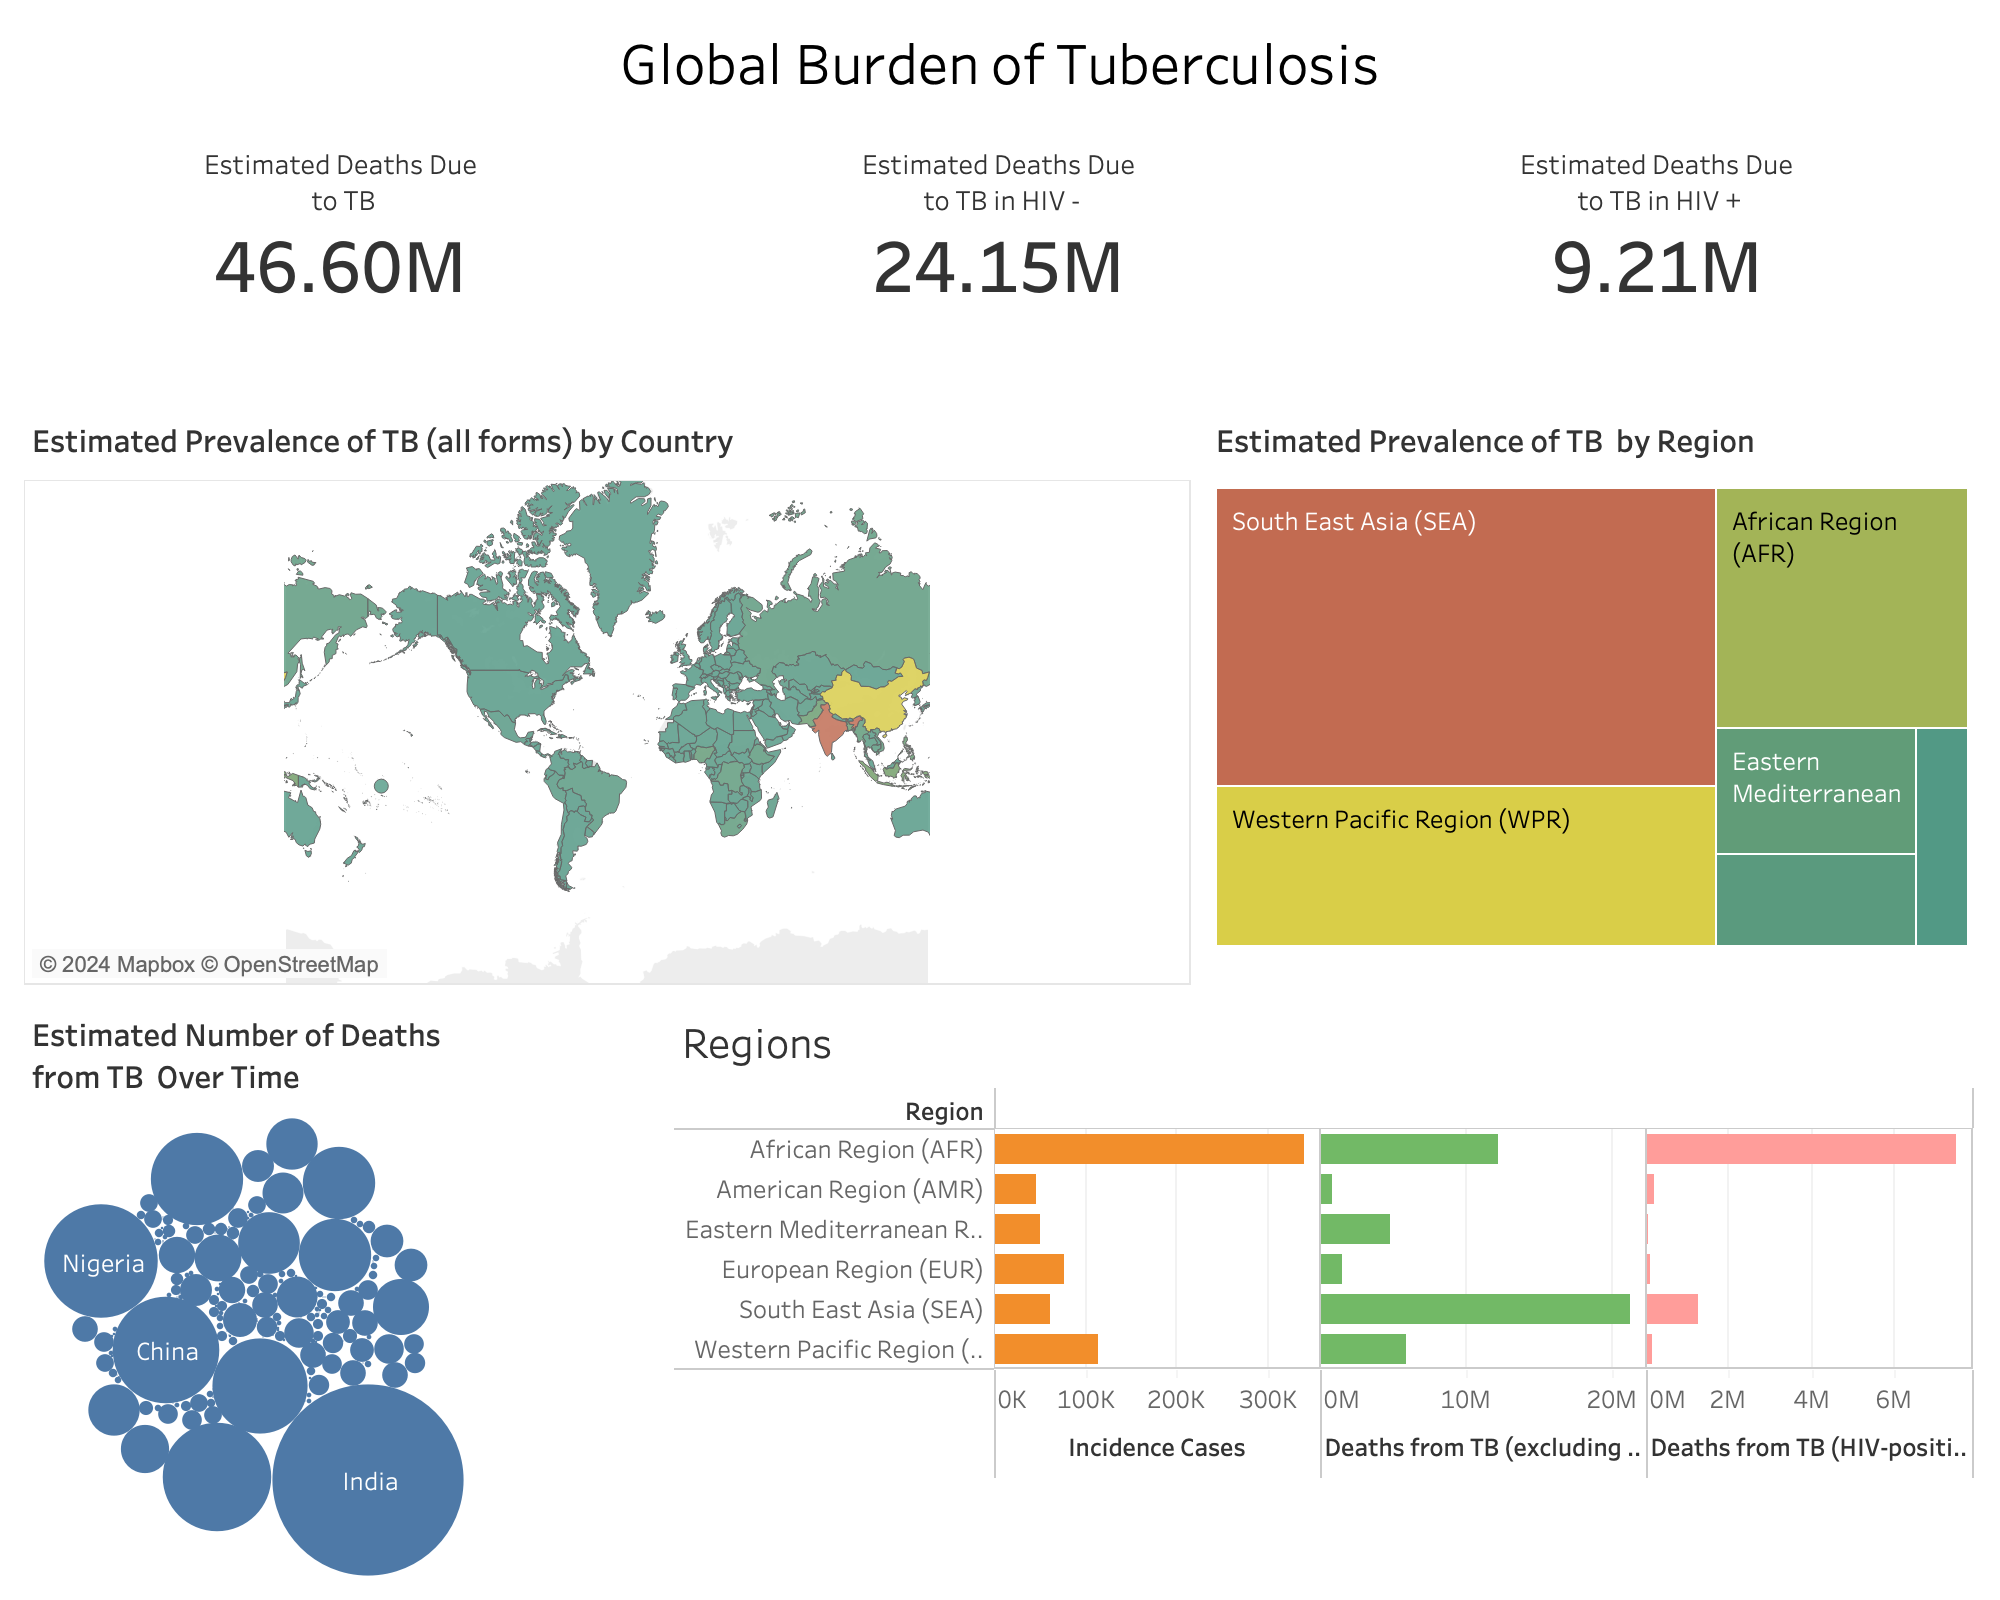

Layout of this report page (visuals, bound fields, positions):
{"tool":"tableau","page":{"name":"Dashboard 1","canvas":[1000,800],"ordinal":0},"visuals":[{"type":"title","box":[8,8,984,46]},{"type":"worksheet","title":"Sheet 7","mark":"Automatic","box":[8,54,325,146]},{"type":"worksheet","title":"T","mark":"Automatic","box":[333,54,333,146]},{"type":"worksheet","title":"HIv+","mark":"Automatic","box":[666,54,326,146]},{"type":"worksheet","title":"Sheet 1","mark":"Multipolygon","box":[8,200,984,297]},{"type":"worksheet","title":"Sheet 2","mark":"Circle","box":[8,497,325,295]},{"type":"worksheet","title":"Sheet 4","mark":"Automatic","rows":["Region"],"cols":["Estimated incidence (all forms) per 100 000 population","Estimated number of deaths from TB (all forms, excluding HIV","Estimated number of deaths from TB in people who are HIV-pos"],"box":[333,497,659,295]}]}

Visuals, with their boxes in screenshot pixels (x1, y1, x2, y2), scaled from the page's 1000x800 canvas onto the 2000x1600 screenshot:
title: 16, 16, 1984, 108
"Sheet 7" worksheet: 16, 108, 666, 400
"T" worksheet: 666, 108, 1332, 400
"HIv+" worksheet: 1332, 108, 1984, 400
"Sheet 1" worksheet (Multipolygon marks): 16, 400, 1984, 994
"Sheet 2" worksheet (Circle marks): 16, 994, 666, 1584
"Sheet 4" worksheet: 666, 994, 1984, 1584
